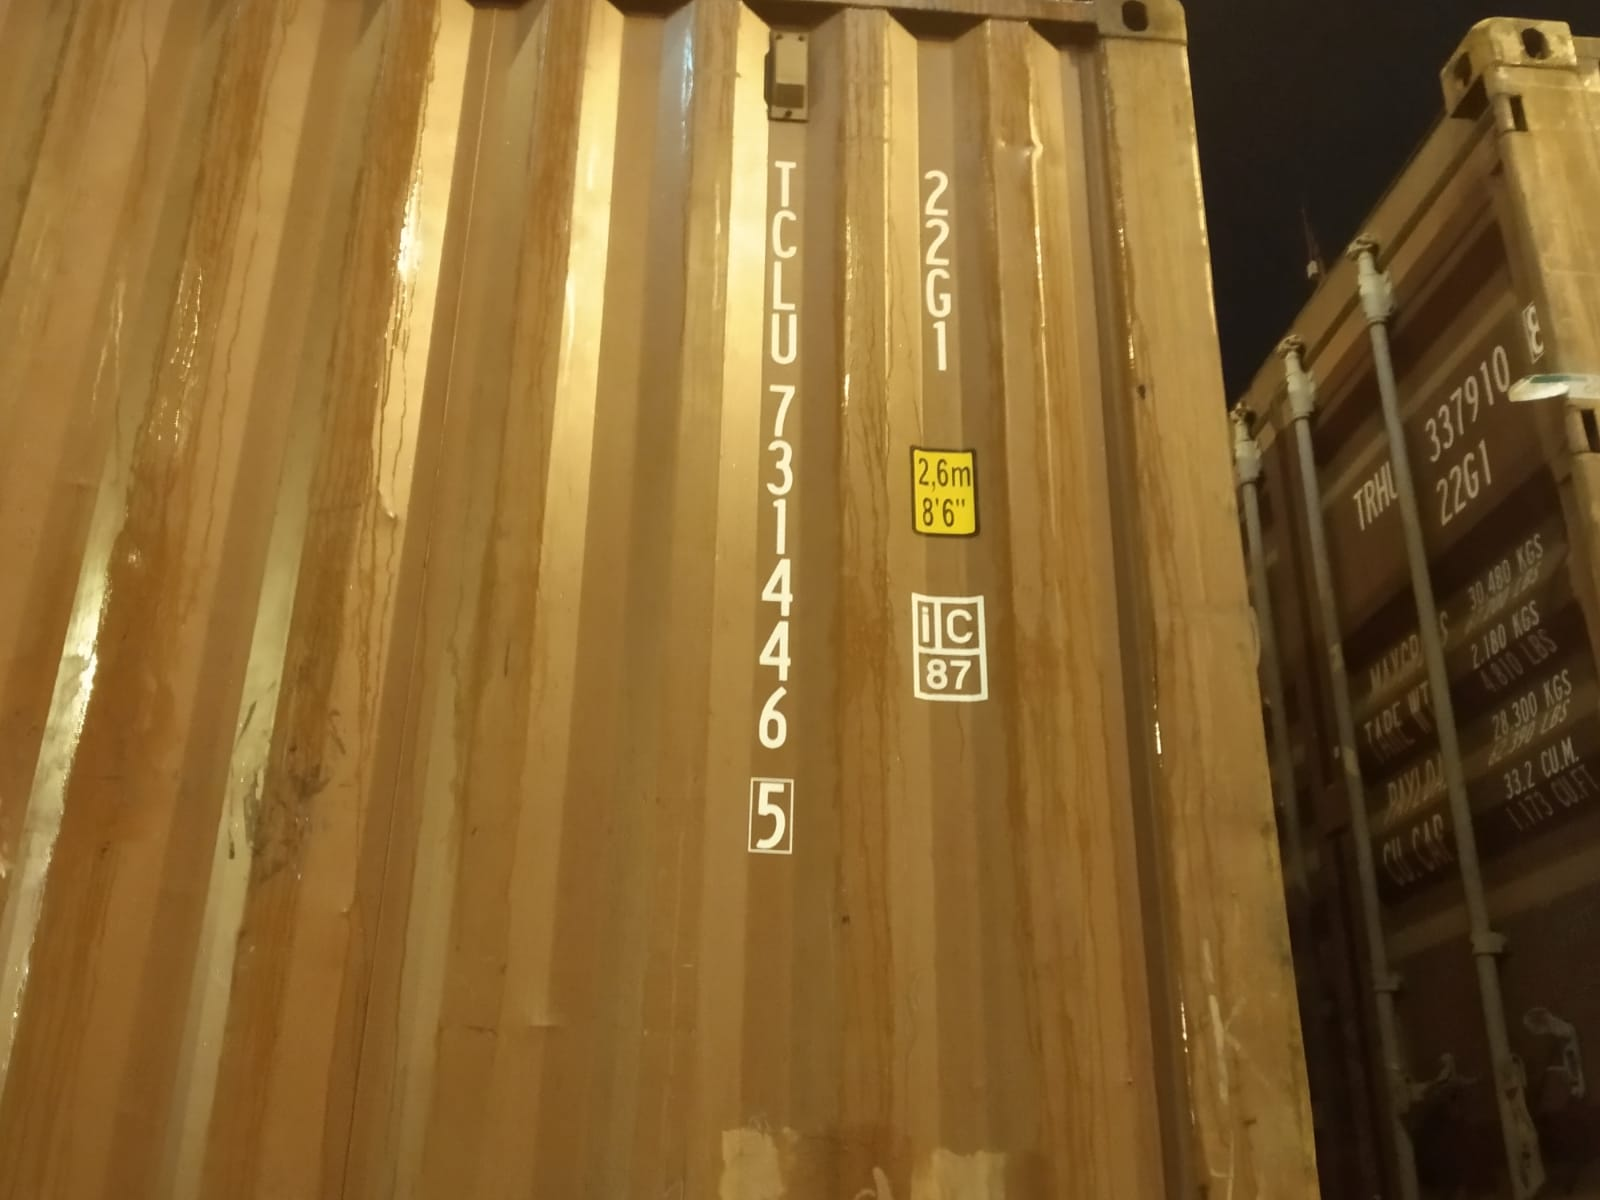right_side: (1, 1, 1323, 1199)
